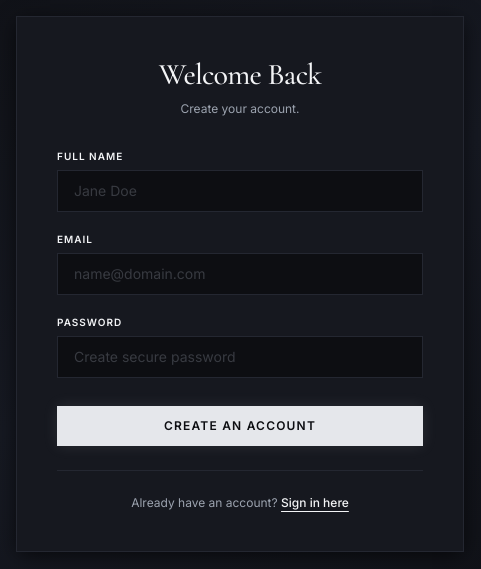
Test: form Submission tests › show loading state when submitting
Type "ahmed" into the field with placeholder "Jane Doe". click: (240, 191)
box: [57, 170, 423, 212]
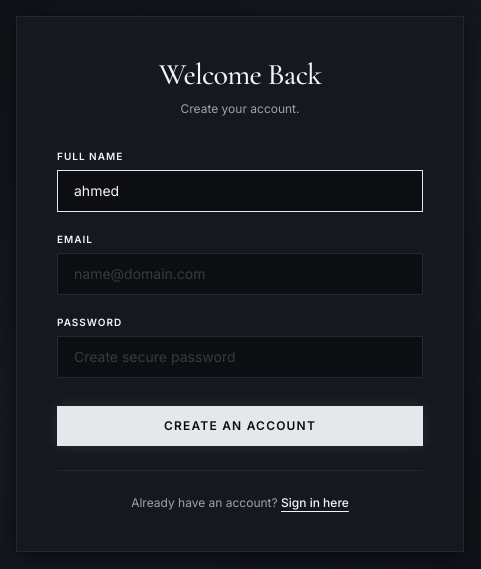
Type "ahmed@gmail.com" into the field with placeholder "name@domain.com". click: (240, 274)
box: [57, 253, 423, 295]
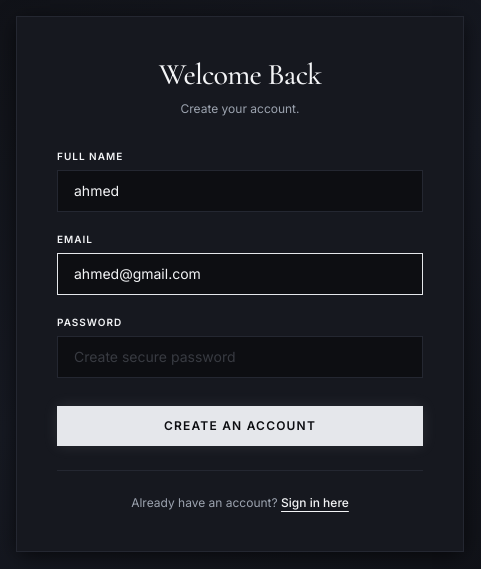
Type "abc123" into the password field with placeholder "Create secure password". click: (240, 357)
box: [57, 336, 423, 378]
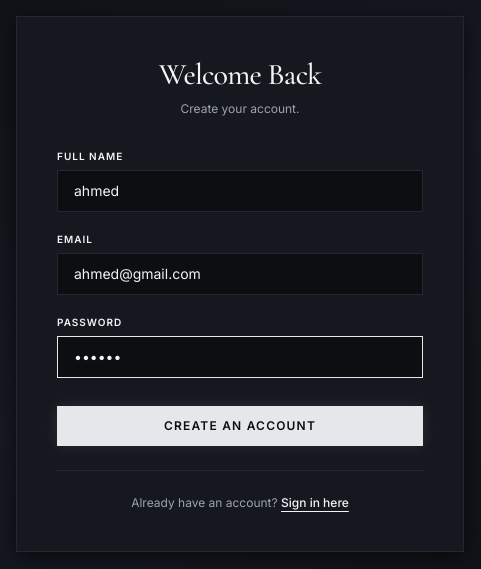
Click the button "Create an Account". click: (240, 426)
box: [57, 406, 423, 446]
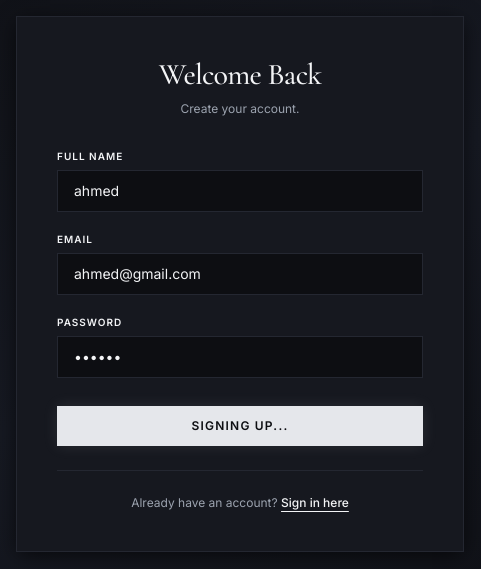
Result: the button "Signing Up..." is shown at [57, 406, 423, 446]
